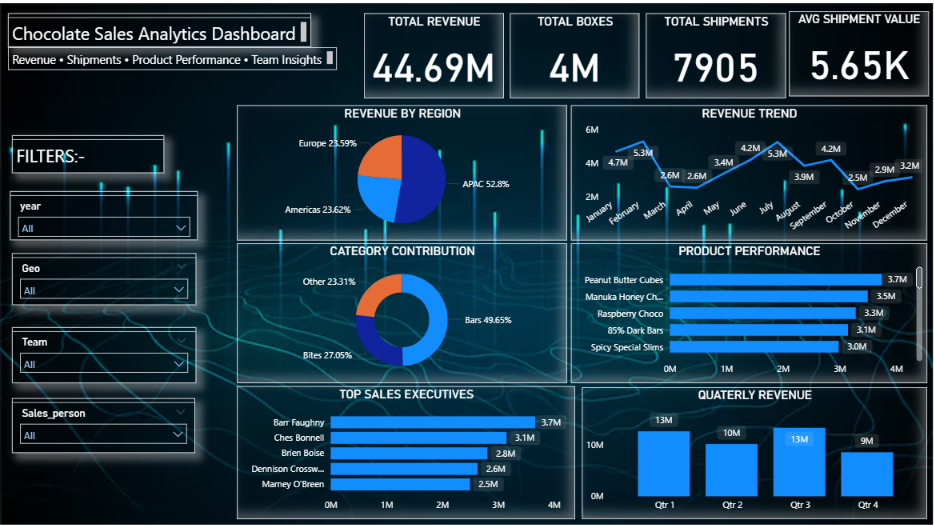

This screenshot's page, from the dashboard's own definition file:
{"tool":"powerbi","page":{"name":"Page 1","canvas":[1280,720],"ordinal":0},"visuals":[{"type":"slicer","fields":{"Values":["locations.Geo"]},"box":[16.5,343.1,252.5,71.4],"z":0},{"type":"textbox","box":[11,13.7,415.8,46.7],"z":1000},{"type":"textbox","box":[11,60.4,451.5,31.6],"z":2000},{"type":"card","title":"TOTAL REVENUE","fields":{"Values":["Sum(shipments.Amount)"]},"box":[500,13.9,191.7,116.7],"z":3000},{"type":"card","title":"TOTAL BOXES","fields":{"Values":["Sum(shipments.Boxes)"]},"box":[700,13.9,177.8,116.7],"z":4000},{"type":"card","title":"TOTAL SHIPMENTS","fields":{"Values":["shipments.TOTAL SHIPMENTS"]},"box":[886.1,13.9,191.7,116.7],"z":5000},{"type":"card","title":"AVG SHIPMENT VALUE","fields":{"Values":["shipments.AVG SHIPMENT VALUE"]},"box":[1083.3,11.1,191.7,116.7],"z":6000},{"type":"pieChart","title":"REVENUE BY REGION","fields":{"Category":["locations.Region"],"Y":["Sum(shipments.Amount)"]},"box":[325.2,140,452.8,185.2],"z":7000},{"type":"barChart","title":"PRODUCT PERFORMANCE","fields":{"Category":["products.Product"],"Y":["Sum(shipments.Amount)"]},"box":[783.5,329.3,488.5,192.1],"z":8000},{"type":"donutChart","title":"CATEGORY CONTRIBUTION","fields":{"Category":["products.Category"],"Y":["Sum(shipments.Amount)"]},"box":[325.2,329.3,452.8,192.1],"z":9000},{"type":"slicer","fields":{"Values":["Calendar.year"]},"box":[13.7,258,258,67.2],"z":10000},{"type":"slicer","fields":{"Values":["people.Team"]},"box":[16.5,444.6,252.5,76.8],"z":11000},{"type":"barChart","title":"TOP SALES EXECUTIVES","fields":{"Category":["people.Sales_person"],"Y":["Sum(shipments.Amount)"]},"box":[325.2,525.6,463.8,182.5],"z":12000},{"type":"columnChart","title":"QUATERLY REVENUE","fields":{"Y":["Sum(shipments.Amount)"],"Category":["Calendar.cal_date.Variation.Date Hierarchy.Quarter"]},"box":[798.6,526.9,473.4,181.1],"z":13000},{"type":"textbox","box":[16.5,181.1,208.6,52.1],"z":14000},{"type":"lineChart","title":"REVENUE TREND","fields":{"Category":["Calendar.cal_date.Variation.Date Hierarchy.Month"],"Y":["Sum(shipments.Amount)"]},"box":[783.5,140,488.5,185.2],"z":15000},{"type":"slicer","fields":{"Values":["people.Sales_person"]},"box":[16.5,542,251.1,75.5],"z":15001}]}

Visuals, with their boxes in screenshot pixels (x1, y1, x2, y2), scaled from the page's 1280x720 canvas onto the 934x525 screenshot:
slicer - locations.Geo: [x1=12, y1=250, x2=196, y2=302]
textbox: [x1=8, y1=10, x2=311, y2=44]
textbox: [x1=8, y1=44, x2=337, y2=67]
"TOTAL REVENUE" card: [x1=365, y1=10, x2=505, y2=95]
"TOTAL BOXES" card: [x1=511, y1=10, x2=641, y2=95]
"TOTAL SHIPMENTS" card: [x1=647, y1=10, x2=786, y2=95]
"AVG SHIPMENT VALUE" card: [x1=790, y1=8, x2=930, y2=93]
"REVENUE BY REGION" pieChart: [x1=237, y1=102, x2=568, y2=237]
"PRODUCT PERFORMANCE" barChart: [x1=572, y1=240, x2=928, y2=380]
"CATEGORY CONTRIBUTION" donutChart: [x1=237, y1=240, x2=568, y2=380]
slicer - Calendar.year: [x1=10, y1=188, x2=198, y2=237]
slicer - people.Team: [x1=12, y1=324, x2=196, y2=380]
"TOP SALES EXECUTIVES" barChart: [x1=237, y1=383, x2=576, y2=516]
"QUATERLY REVENUE" columnChart: [x1=583, y1=384, x2=928, y2=516]
textbox: [x1=12, y1=132, x2=164, y2=170]
"REVENUE TREND" lineChart: [x1=572, y1=102, x2=928, y2=237]
slicer - people.Sales_person: [x1=12, y1=395, x2=195, y2=450]
